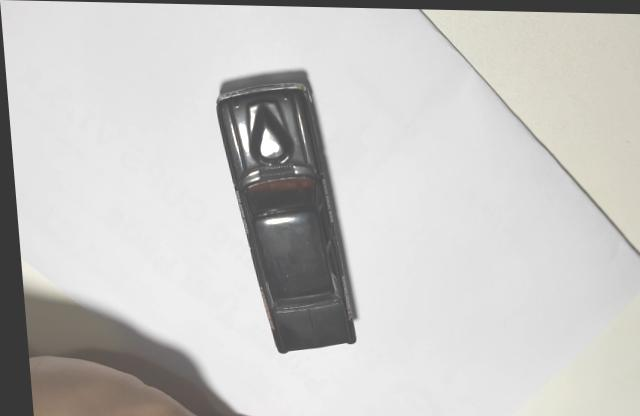01_FORD: (214, 75, 352, 351)
